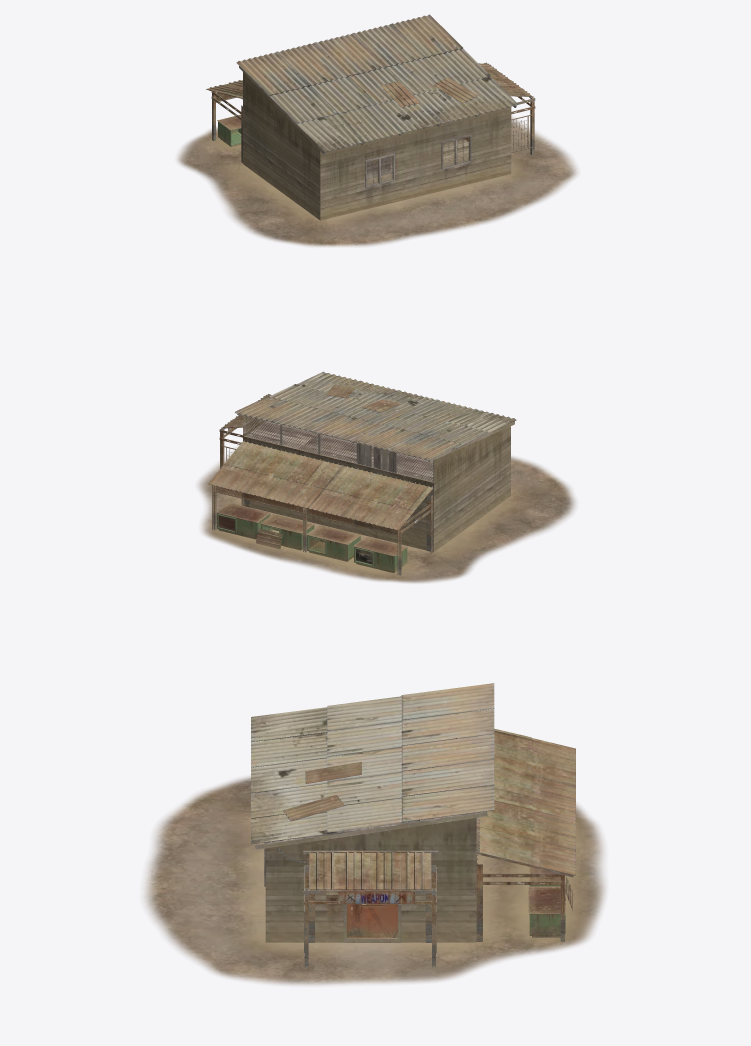
File: tienda_abandonada.glb
3 views of the same model, one above another, from view 1: azimuth 30°, elevation 25°; view 2: azimuth 150°, elevation 25°; view 3: azimuth 270°, elevation 25° (orthographic). The views are drawn at different scales.
Parts seen in each view (by area): view 1: Roof_Roof_0, Plane_Ground_0, Wall_Wall_0, Woods_Wood_0, Irons_Irons_0, Environments_Environments_0; view 2: Roof_Roof_0, Plane_Ground_0, Wall_Wall_0, Environments_Environments_0, Woods_Wood_0, Tiles_Tiles_0, Irons_Irons_0; view 3: Roof_Roof_0, Plane_Ground_0, Wall_Wall_0, Environments_Environments_0, Irons_Irons_0, Woods_Wood_0.
Boxes of the visible parts, left/top/right/bottom form: Roof_Roof_0: left=206, top=14, right=531, bottom=152; Plane_Ground_0: left=177, top=117, right=577, bottom=246; Wall_Wall_0: left=243, top=72, right=511, bottom=220; Woods_Wood_0: left=239, top=66, right=516, bottom=188; Irons_Irons_0: left=209, top=62, right=535, bottom=162; Environments_Environments_0: left=216, top=93, right=527, bottom=184; Roof_Roof_0: left=208, top=371, right=516, bottom=549; Plane_Ground_0: left=197, top=447, right=575, bottom=583; Wall_Wall_0: left=243, top=415, right=510, bottom=552; Environments_Environments_0: left=216, top=427, right=407, bottom=572; Woods_Wood_0: left=237, top=413, right=514, bottom=481; Tiles_Tiles_0: left=216, top=416, right=432, bottom=553; Irons_Irons_0: left=209, top=394, right=433, bottom=575; Roof_Roof_0: left=251, top=683, right=575, bottom=910; Plane_Ground_0: left=144, top=776, right=605, bottom=985; Wall_Wall_0: left=265, top=711, right=476, bottom=942; Environments_Environments_0: left=277, top=846, right=565, bottom=938; Irons_Irons_0: left=303, top=736, right=573, bottom=967; Woods_Wood_0: left=254, top=711, right=487, bottom=942.
Size of the model in its own units: 48 by 9.87 by 48.
8 materials, 8 textured.
